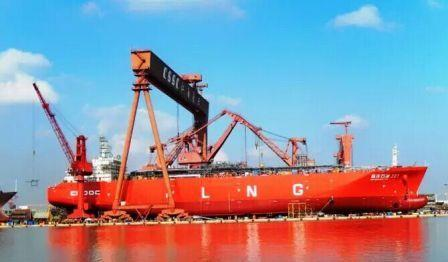Cargoship: (46, 81, 433, 227)
